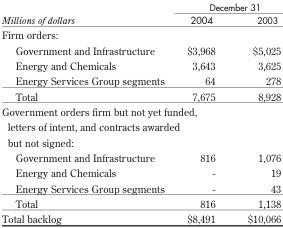table: (1, 1, 280, 224)
table column: (1, 1, 175, 224), (175, 1, 230, 224), (230, 1, 280, 224)
table column header: (1, 1, 280, 26)
table projected row header: (1, 26, 280, 42), (1, 118, 280, 134), (1, 103, 280, 118), (1, 134, 280, 149)
table row: (1, 26, 280, 42), (1, 72, 280, 88), (1, 118, 280, 134), (1, 164, 280, 180), (1, 42, 280, 57), (1, 57, 280, 72), (1, 88, 280, 103), (1, 103, 280, 118), (1, 134, 280, 149), (1, 149, 280, 164), (1, 180, 280, 195), (1, 195, 280, 210), (1, 210, 280, 224), (1, 13, 280, 26), (1, 1, 280, 13)
table spanning cell: (1, 1, 175, 26), (175, 1, 280, 13)
